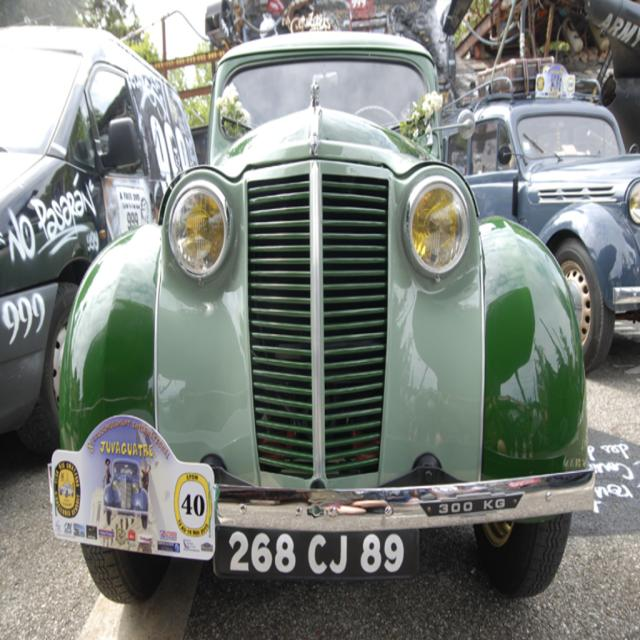car: (43, 22, 595, 599)
